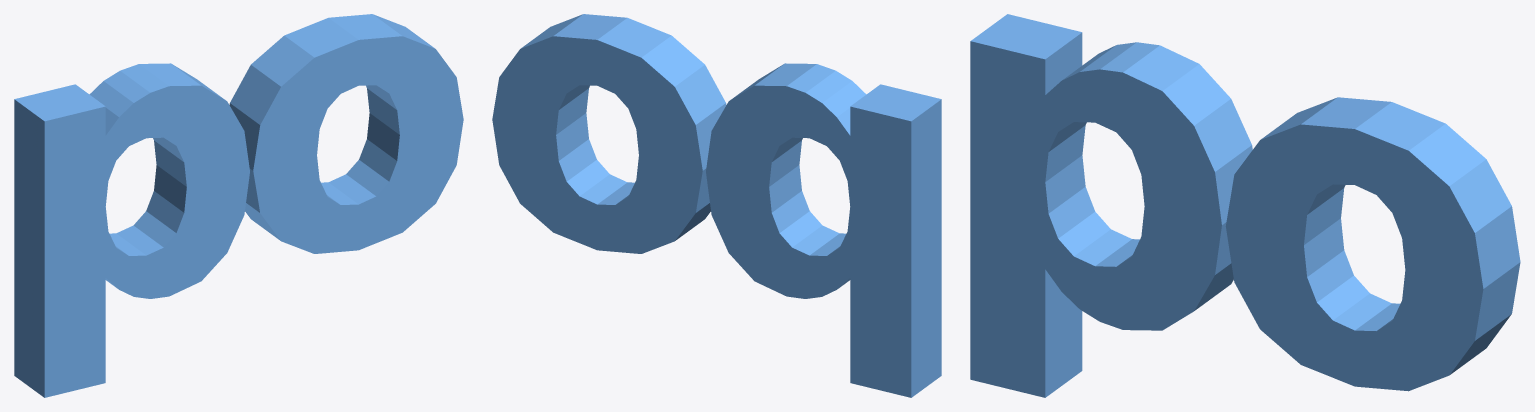
Rendered from suku_kecil_po.glb.
The picture shows the model from 3 angles, left to right: view 1: azimuth 30°, elevation 25°; view 2: azimuth 150°, elevation 25°; view 3: azimuth 330°, elevation 25°; orthographic projection. The views are drawn at different scales.
Parts seen in each view (by area): view 1: geometry_0; view 2: geometry_0; view 3: geometry_0.
Part boxes in pixels (<box>): geometry_0: <box>14,14,463,397</box>; geometry_0: <box>492,14,941,397</box>; geometry_0: <box>970,14,1520,397</box>.
Bounding box in the file's own units: 11.97 × 7.68 × 1.5.
